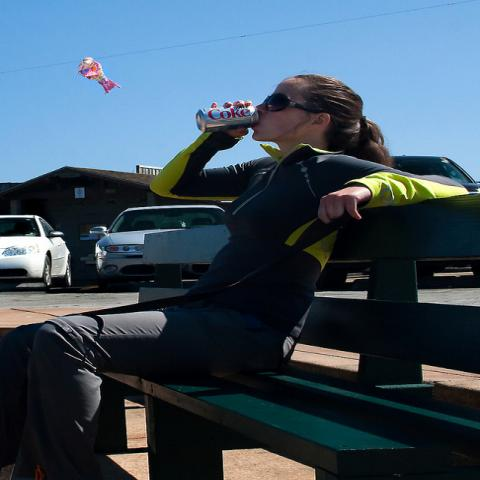car: (91, 205, 229, 285), (0, 215, 73, 290), (392, 154, 479, 194)
